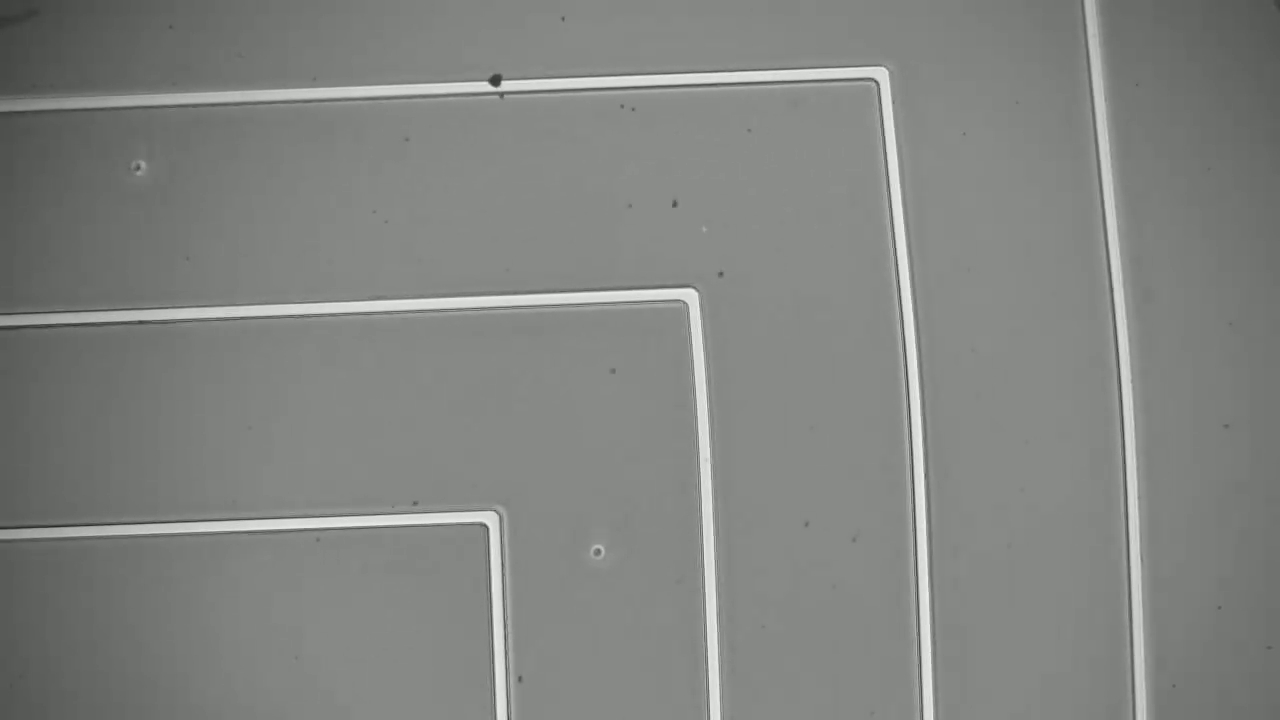stains_enbedded: (484, 67, 515, 102)
